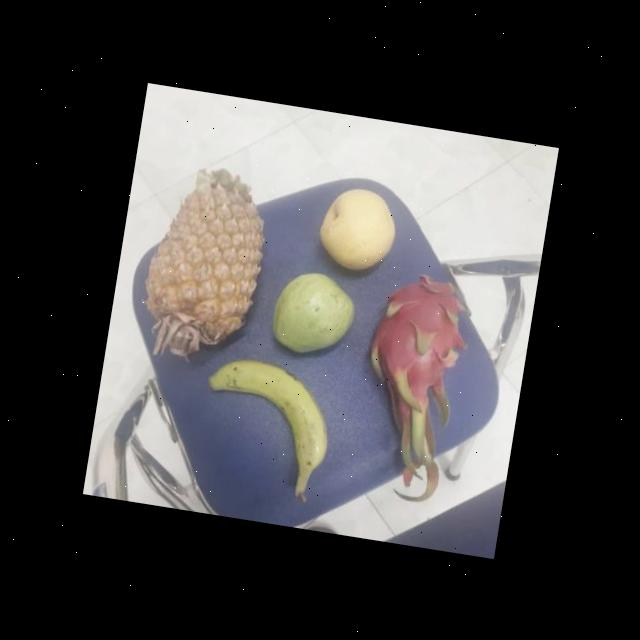banana: (198, 356, 344, 478)
guava: (263, 263, 361, 360)
pear: (312, 182, 404, 276)
pineapple: (136, 161, 276, 368)
pitaya: (363, 270, 474, 402)
